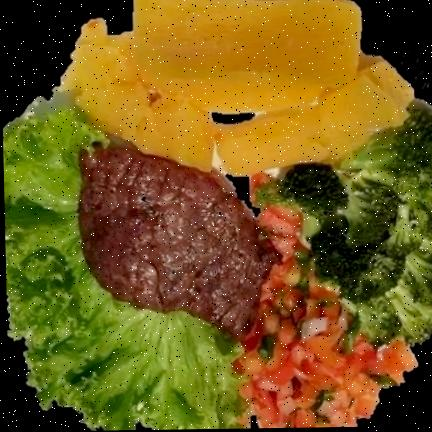broccoli: (253, 108, 432, 348)
cassava: (60, 0, 413, 176)
meat: (74, 146, 277, 339)
salad: (3, 89, 240, 430)
tomato: (239, 210, 418, 428)
